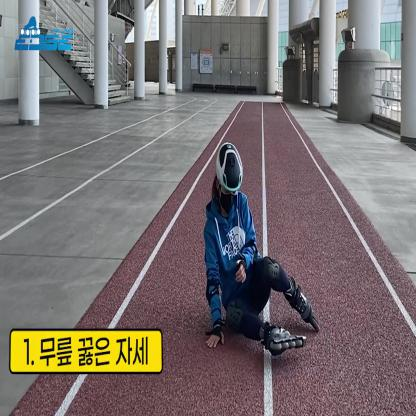Fall_Down: (205, 142, 313, 351)
